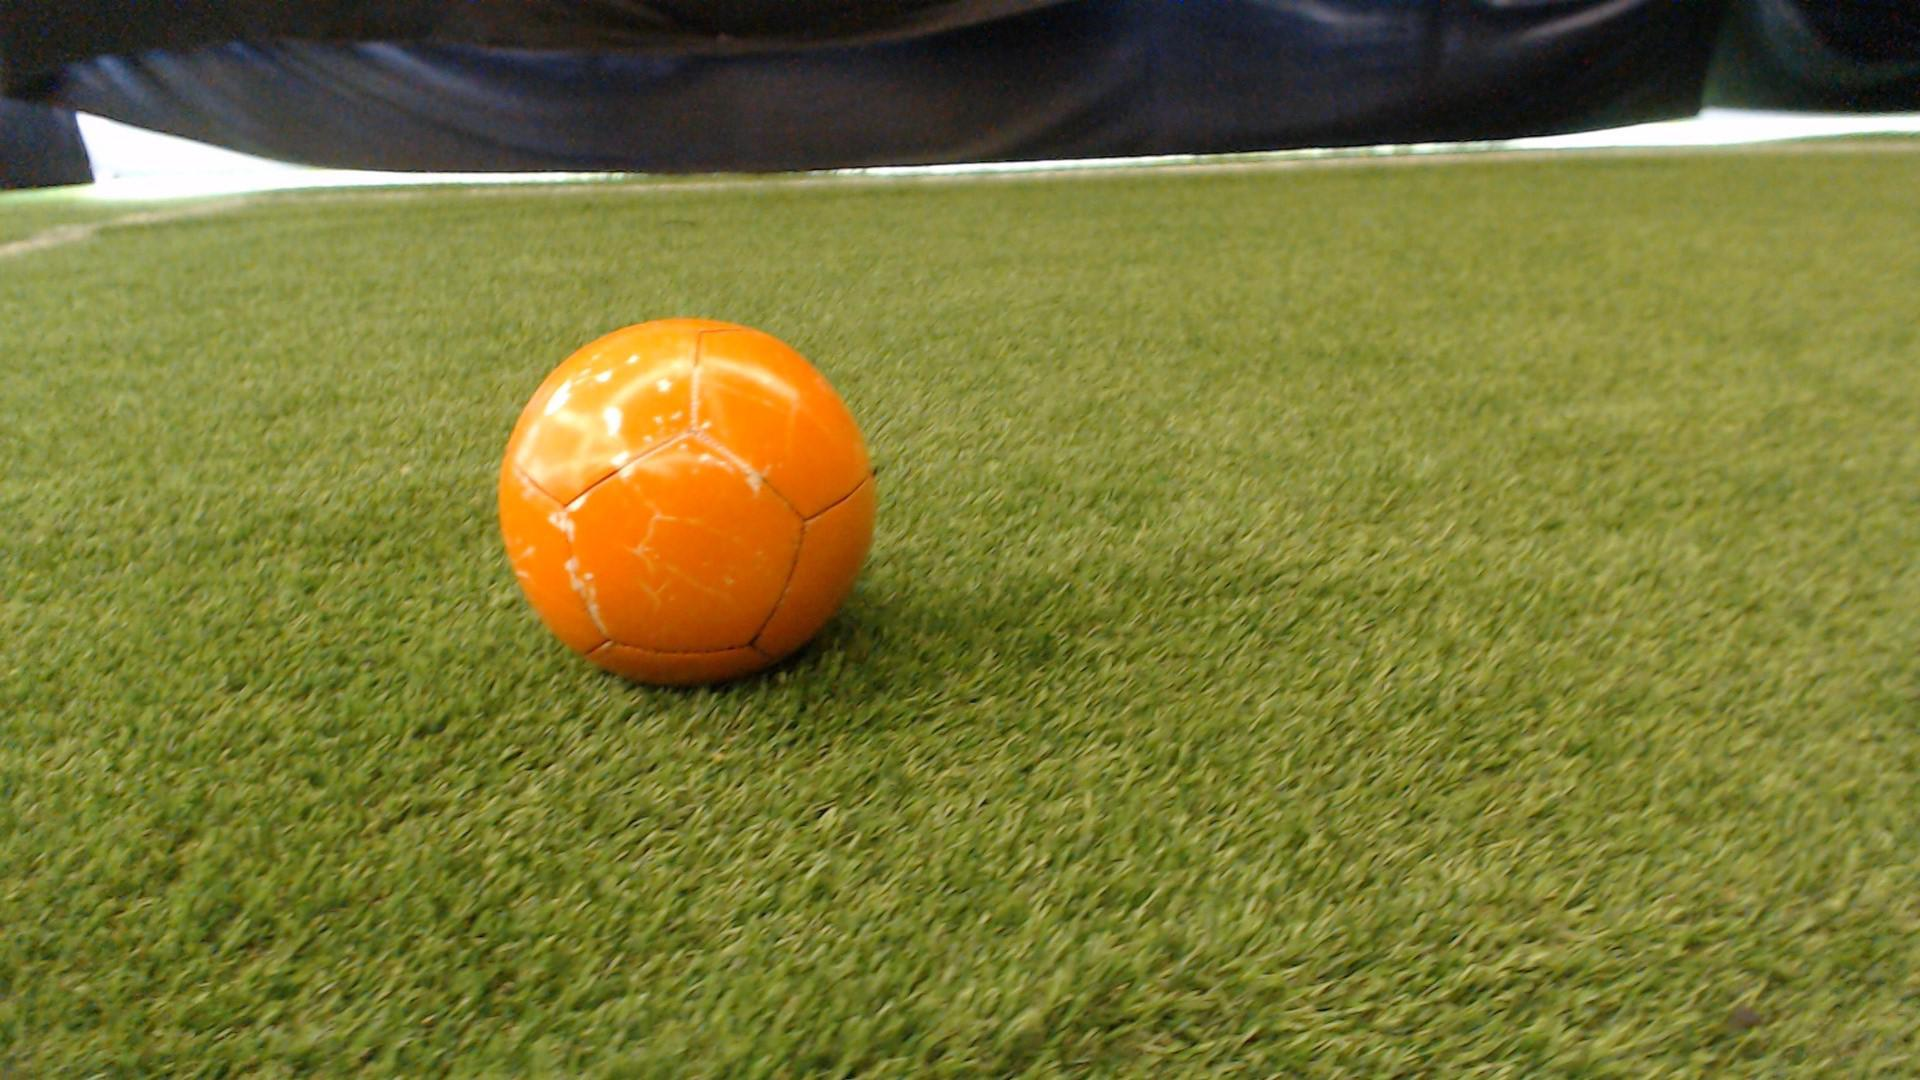bola: (462, 280, 927, 708)
